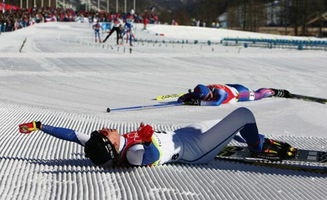10+: (1, 1, 323, 180)
down: (15, 99, 302, 172), (173, 73, 296, 109)
